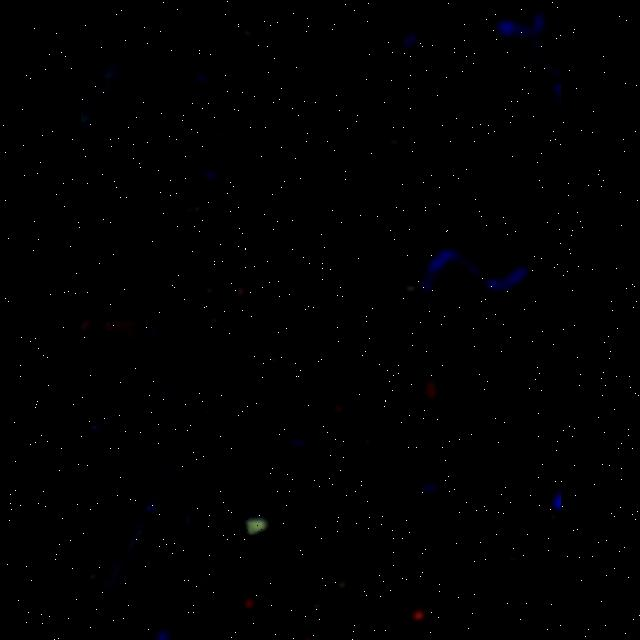microbeads: (242, 517, 268, 535)
